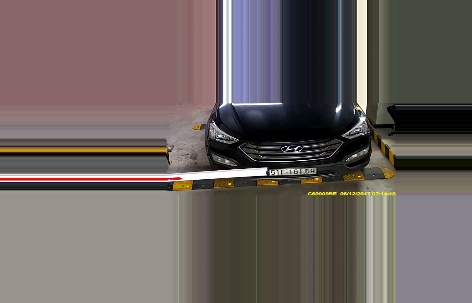plate: (268, 166, 318, 178)
